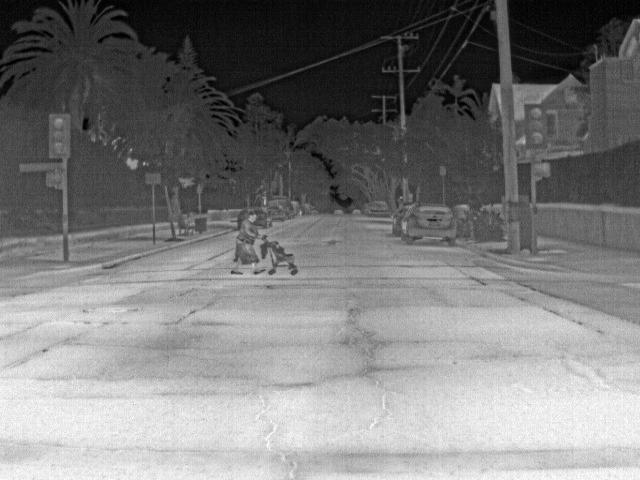car: (406, 200, 458, 248), (270, 195, 293, 217), (367, 198, 390, 218), (258, 207, 272, 230), (269, 201, 285, 220), (290, 198, 303, 216), (300, 202, 314, 216), (352, 208, 363, 217), (332, 208, 344, 216)
person: (236, 211, 259, 275), (393, 195, 408, 238), (273, 239, 286, 257), (180, 209, 192, 228)
